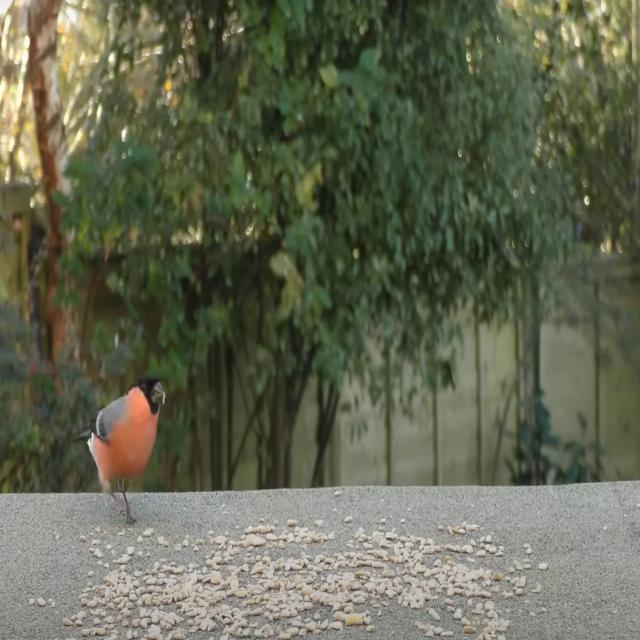beak: (150, 379, 166, 407)
bird: (77, 372, 166, 524)
